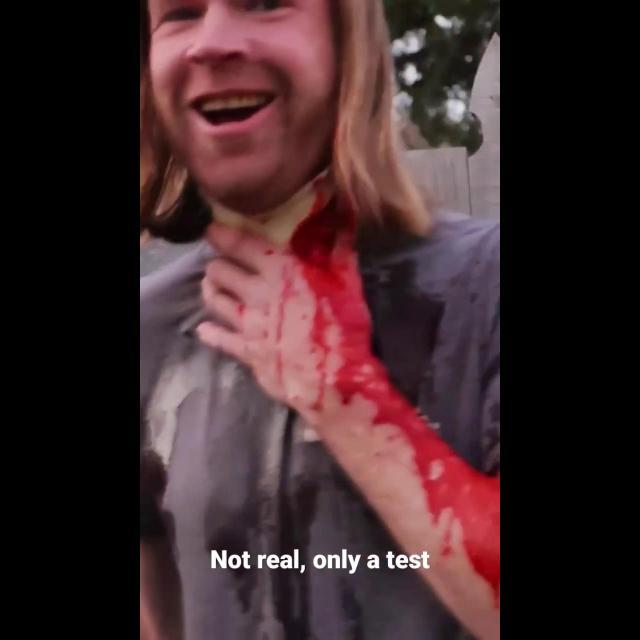blood: (278, 200, 500, 601)
